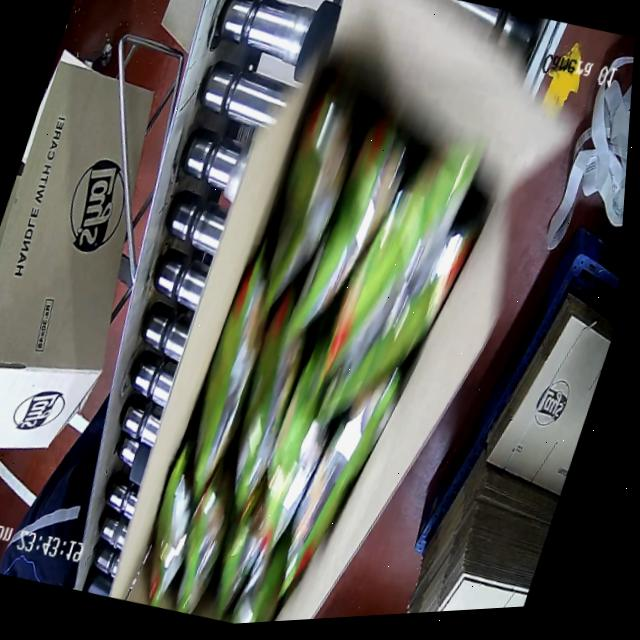YOGURT_HERB: (135, 70, 487, 629)
